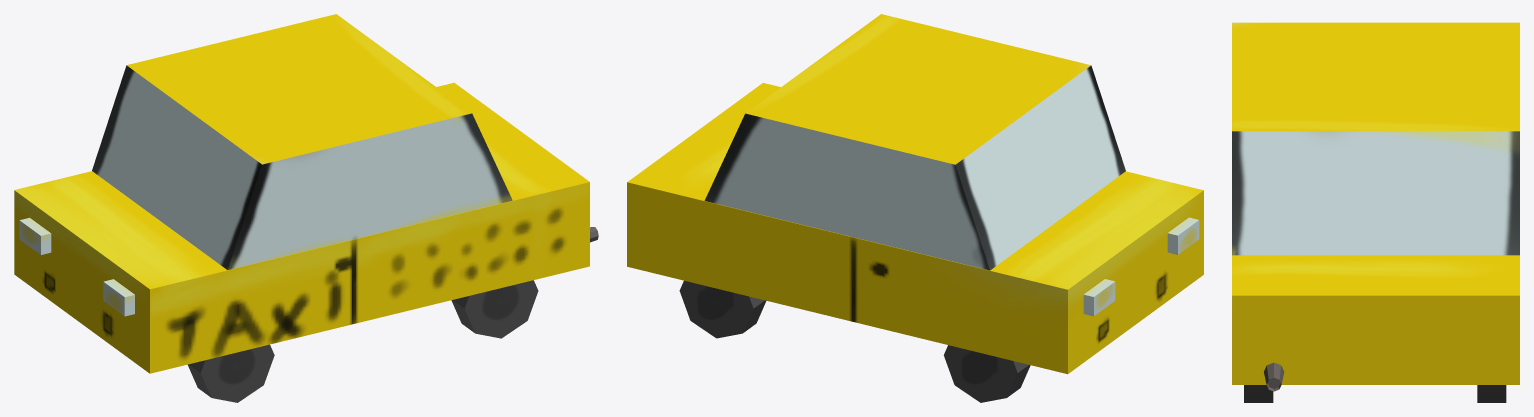
Rendered from TaxiObstaculo.fbx.
3 renders of one model, left to right at view 1: azimuth 30°, elevation 25°; view 2: azimuth 150°, elevation 25°; view 3: azimuth 270°, elevation 25°, orthographic. The views are drawn at different scales.
Visible parts, largest first — view 1: Taxi; view 2: Taxi; view 3: Taxi.
Part boxes in pixels (left/top/right/bottom): Taxi: left=14, top=14, right=598, bottom=402; Taxi: left=627, top=14, right=1203, bottom=402; Taxi: left=1232, top=22, right=1519, bottom=402.
Size of the model in its own units: 404 by 219 by 200.
1 material, 1 textured.
